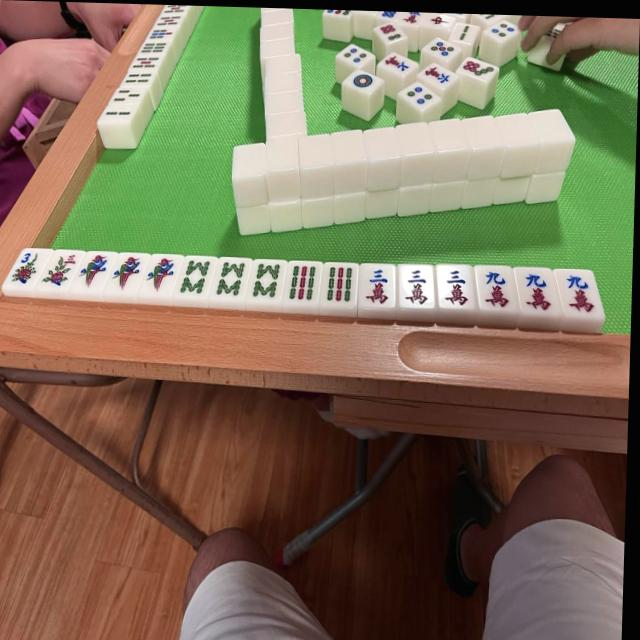f3: (6, 249, 52, 287)
ff3: (38, 250, 84, 288)
m3: (440, 264, 471, 311), (401, 263, 432, 309), (362, 264, 392, 308)
m6: (419, 63, 460, 90)
m7: (378, 50, 419, 80)
m9: (480, 266, 512, 312), (564, 273, 596, 317), (523, 269, 554, 314)
s1: (110, 254, 141, 294), (146, 255, 175, 296), (79, 253, 109, 292)
s2: (449, 21, 480, 47), (100, 107, 137, 123)
s8: (215, 258, 246, 302), (180, 255, 211, 298), (253, 261, 279, 301)
s9: (325, 264, 355, 307), (287, 262, 316, 304)
t1: (345, 68, 384, 95)
t4: (400, 82, 440, 112), (483, 20, 524, 45), (337, 44, 374, 67)
t5: (421, 35, 464, 63)
t6: (374, 21, 408, 44)
t7: (459, 56, 500, 83)
zhong: (423, 13, 458, 32)
